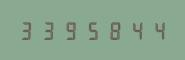eight: (101, 20, 121, 40)
five: (80, 20, 100, 40)
four: (122, 20, 142, 40), (143, 20, 163, 40)
nine: (59, 20, 79, 40)
three: (17, 20, 37, 40), (38, 20, 58, 40)
